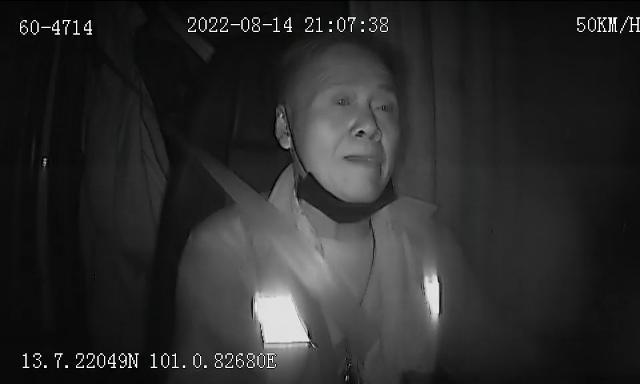SafeDriving: (368, 90, 398, 119), (328, 87, 358, 113)
Seatbelt: (194, 154, 383, 368)
